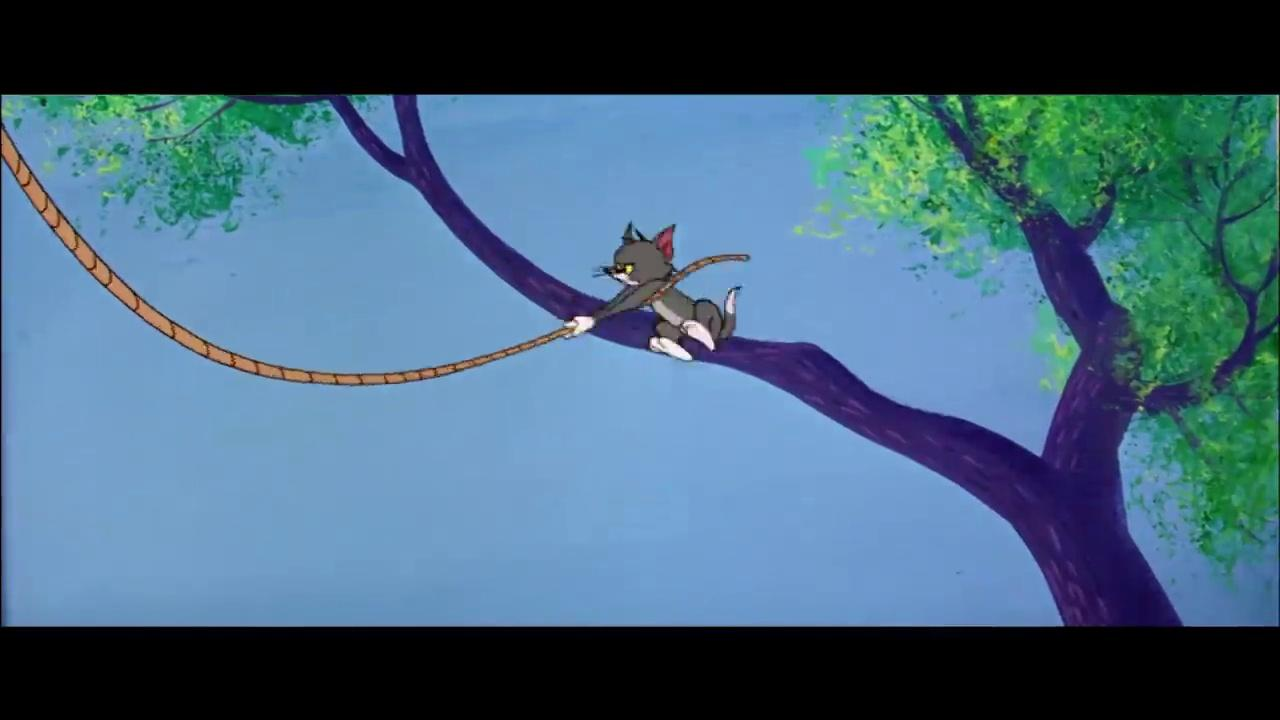Tom: (560, 218, 744, 363)
